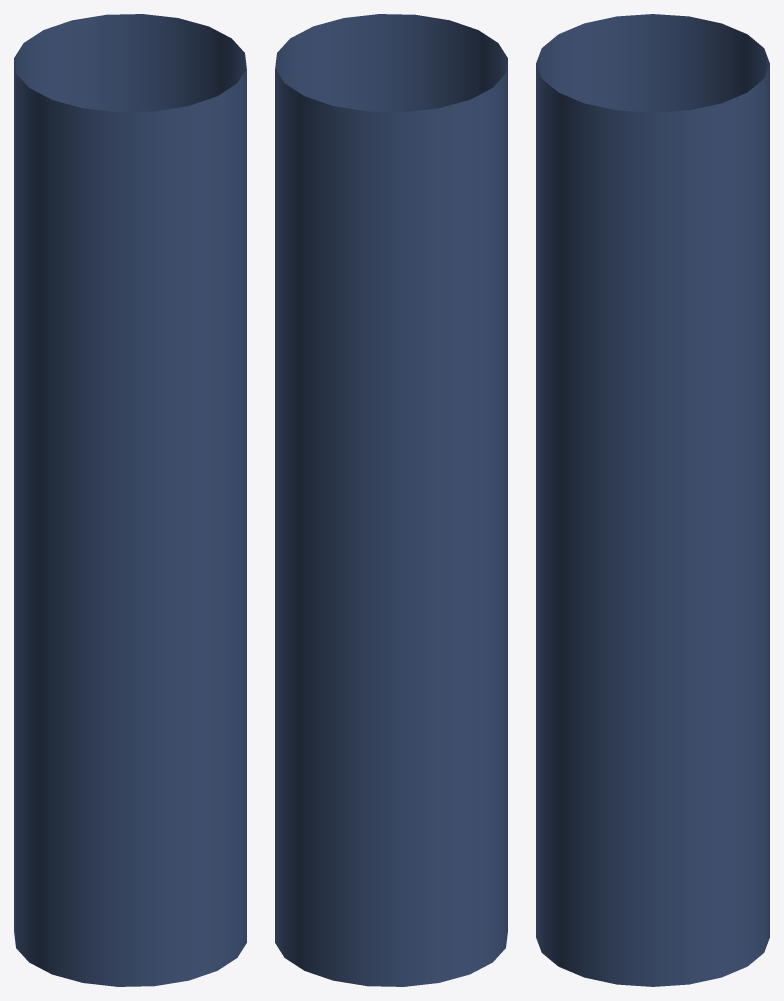
File: SM_HQcylinder.fbx
3 views of the same model, side by side, from view 1: azimuth 30°, elevation 25°; view 2: azimuth 150°, elevation 25°; view 3: azimuth 270°, elevation 25° (orthographic).
Visible parts, largest first — view 1: pCylinder1; view 2: pCylinder1; view 3: pCylinder1.
Part boxes in pixels (x1=…): pCylinder1: x1=14, y1=14, x2=246, y2=986; pCylinder1: x1=275, y1=14, x2=507, y2=986; pCylinder1: x1=536, y1=14, x2=769, y2=986.
Bounding box in the file's own units: 179 × 740 × 179.
